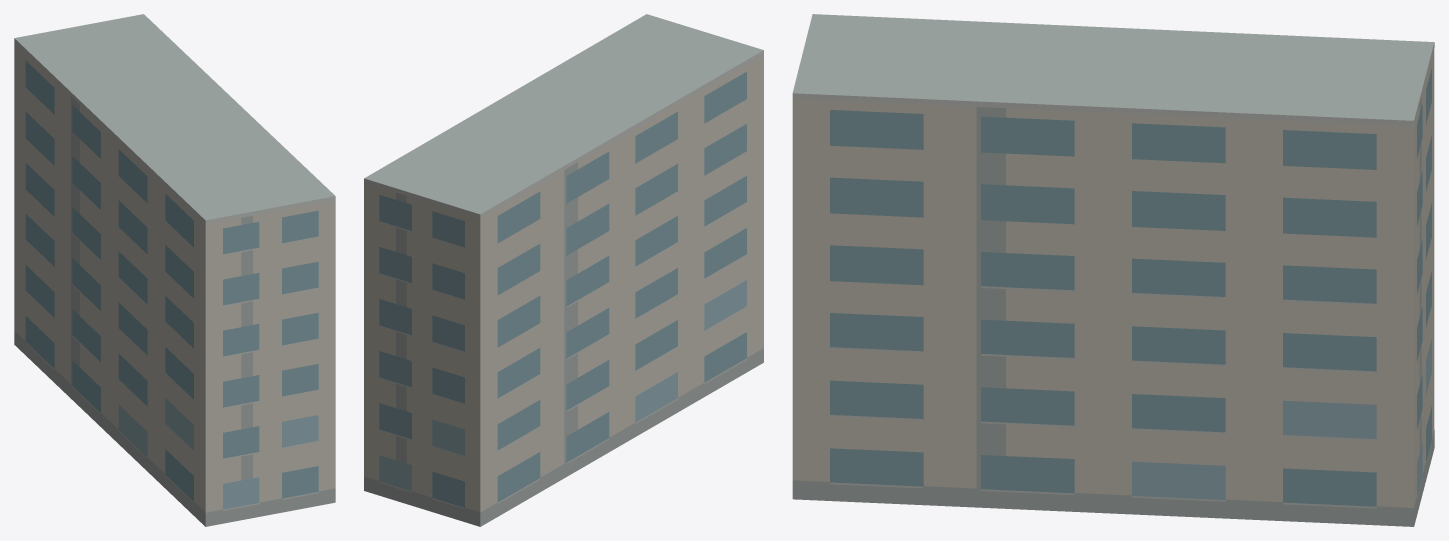
File: survey-upis-32953928.glb
3 renders of one model, left to right at view 1: azimuth 30°, elevation 25°; view 2: azimuth 150°, elevation 25°; view 3: azimuth 270°, elevation 25°, orthographic. The views are drawn at different scales.
Visible parts, largest first — view 1: survey-upis-32953928.tmp; view 2: survey-upis-32953928.tmp; view 3: survey-upis-32953928.tmp.
Boxes of the visible parts, x1,y1,x2,y2 form: survey-upis-32953928.tmp: [14, 14, 335, 526]; survey-upis-32953928.tmp: [364, 14, 763, 526]; survey-upis-32953928.tmp: [792, 14, 1434, 526].
Size of the model in its own units: 10.24 by 18.13 by 25.98.
